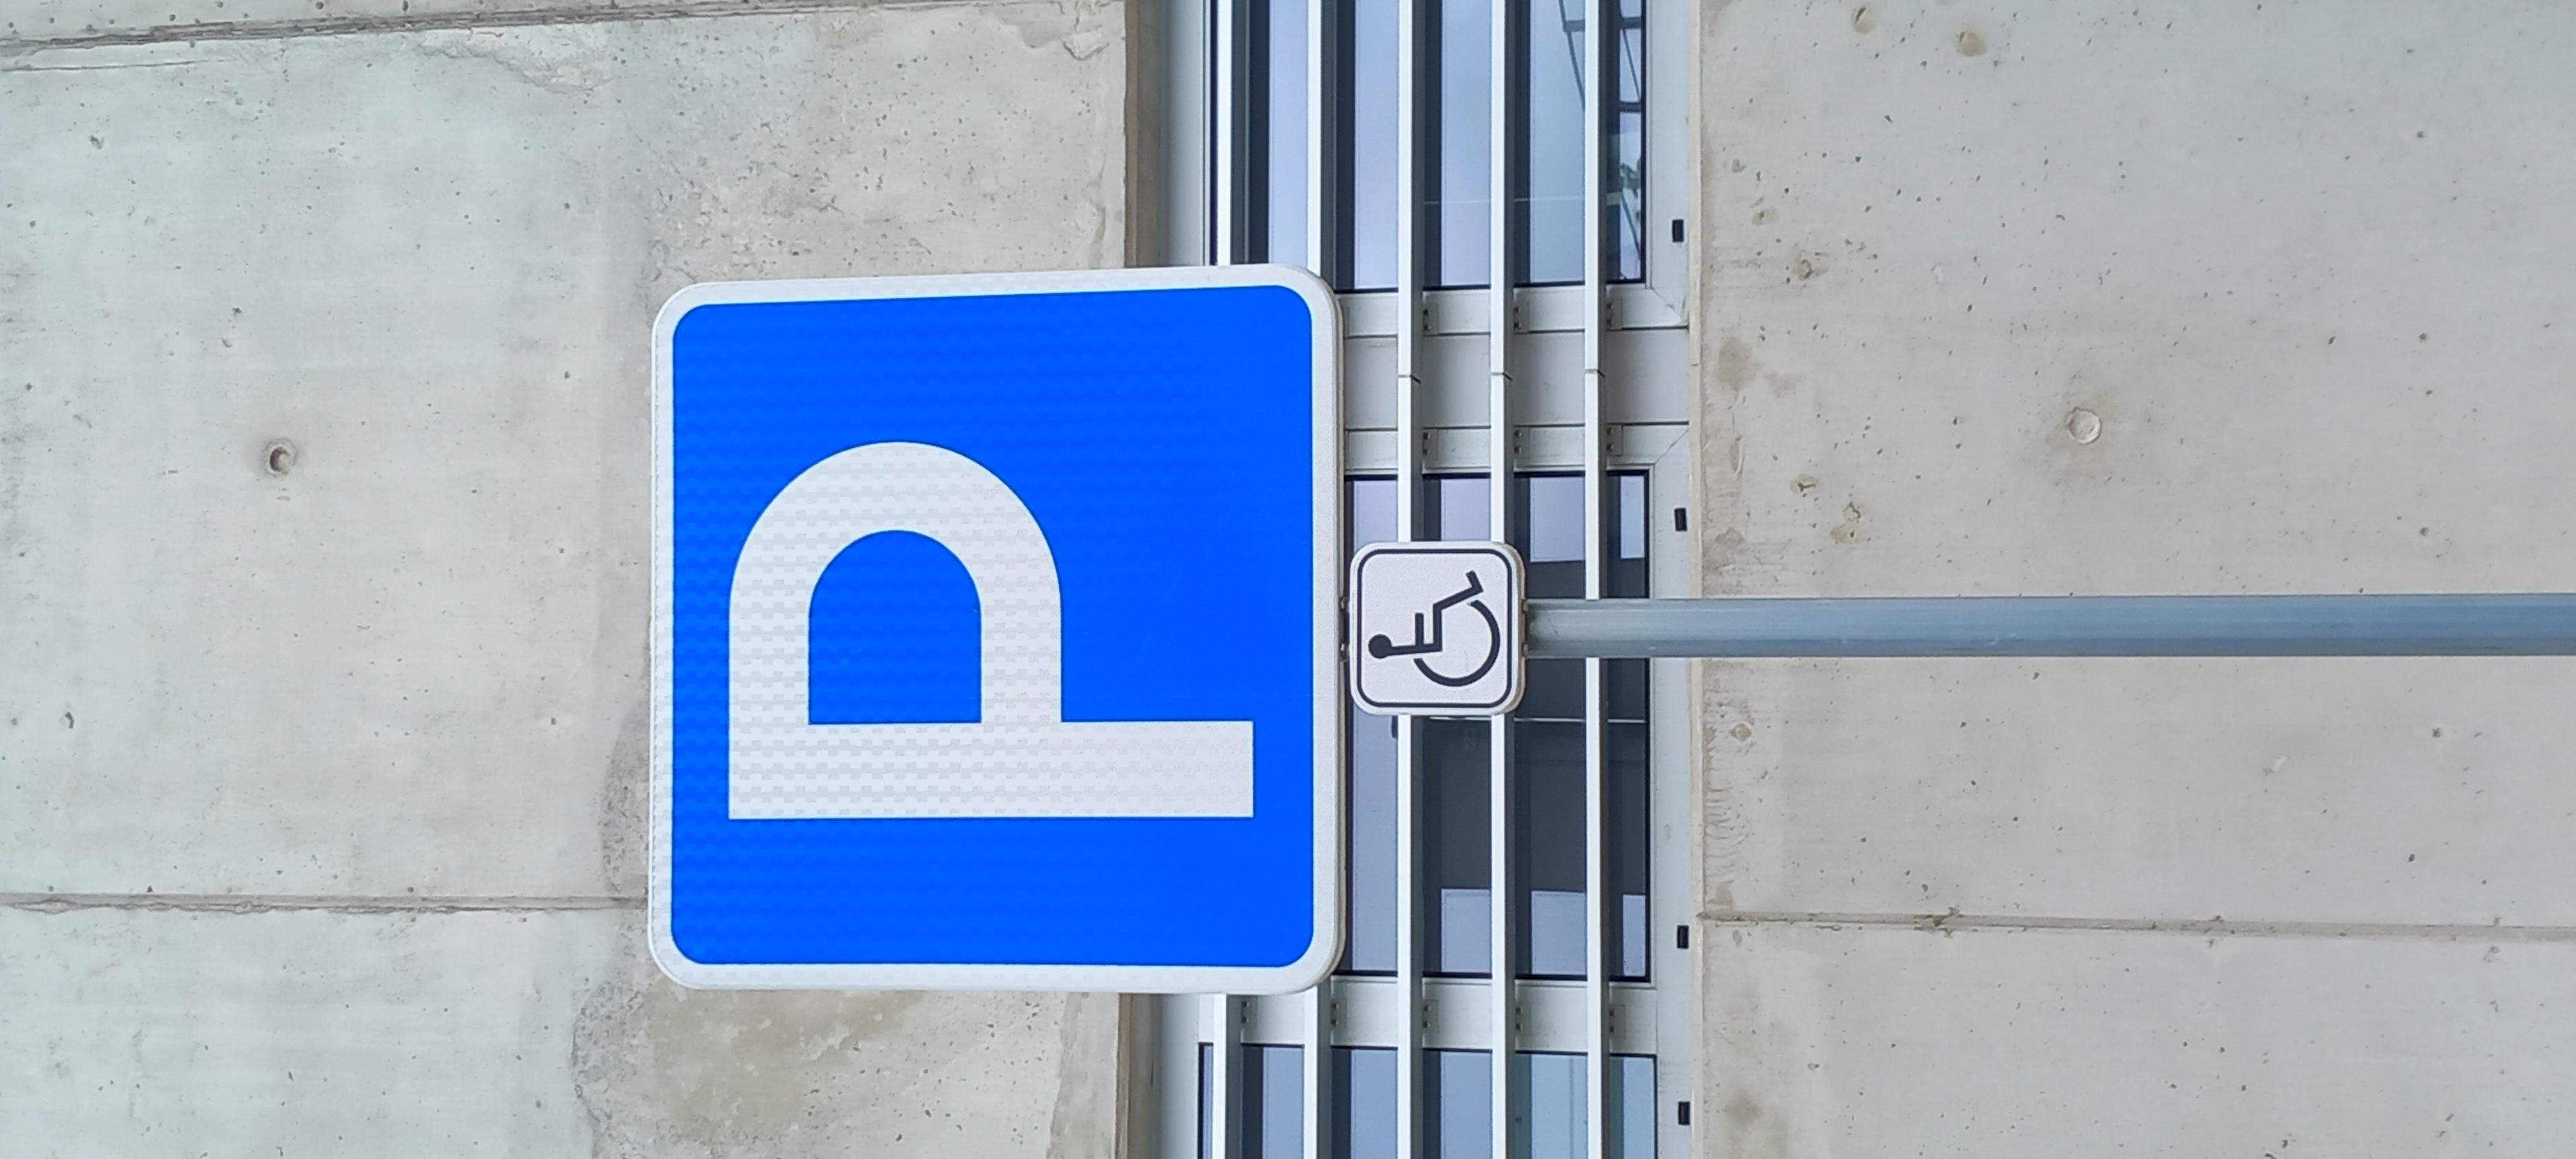Estacionamento autorizado: (407, 292, 1965, 611)
